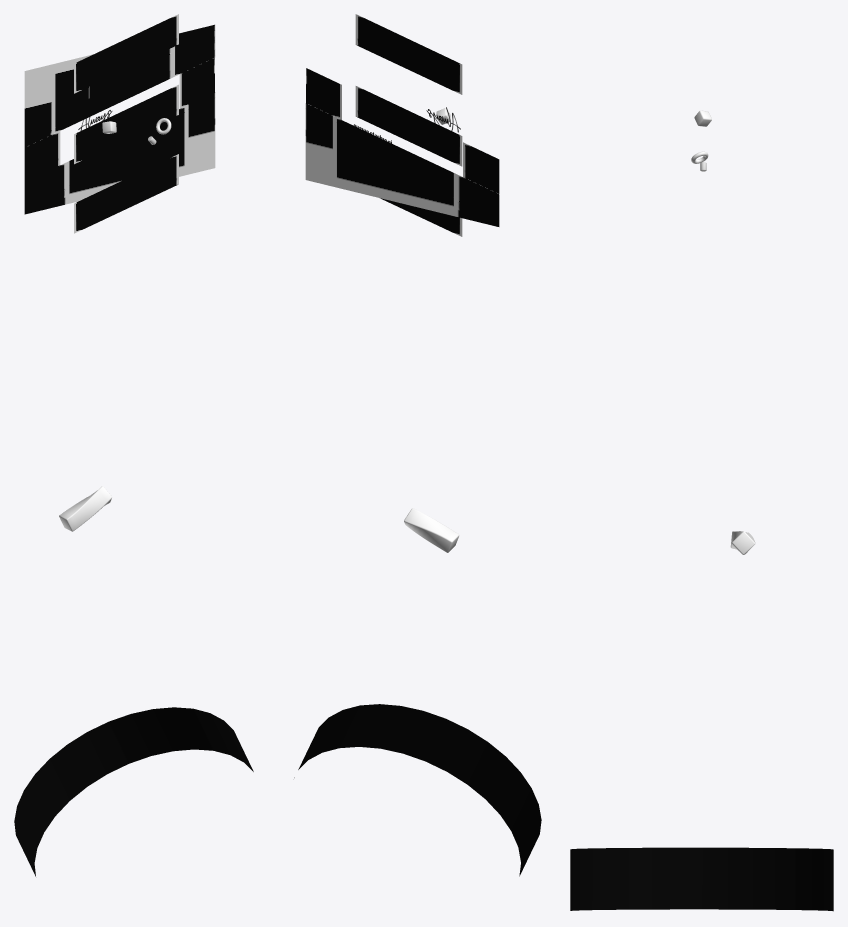
Rendered from section_2.glb.
3 renders of one model, left to right at view 1: azimuth 30°, elevation 25°; view 2: azimuth 150°, elevation 25°; view 3: azimuth 270°, elevation 25°, orthographic. The views are drawn at different scales.
Visible parts, largest first — view 1: Flexible, Background, TitleContainer; view 2: Flexible, Background, TitleContainer; view 3: Background.
Part boxes in pixels (x1=…): Flexible: x1=24, y1=14, x2=215, y2=233; Background: x1=14, y1=707, x2=253, y2=876; TitleContainer: x1=59, y1=486, x2=111, y2=531; Flexible: x1=305, y1=14, x2=499, y2=236; Background: x1=294, y1=704, x2=541, y2=876; TitleContainer: x1=404, y1=508, x2=459, y2=552; Background: x1=570, y1=847, x2=833, y2=911.
Size of the model in its own units: 24.79 by 94.41 by 24.59.
8 materials, 3 textured.
